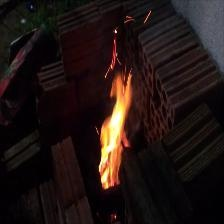fire: (85, 34, 145, 204)
